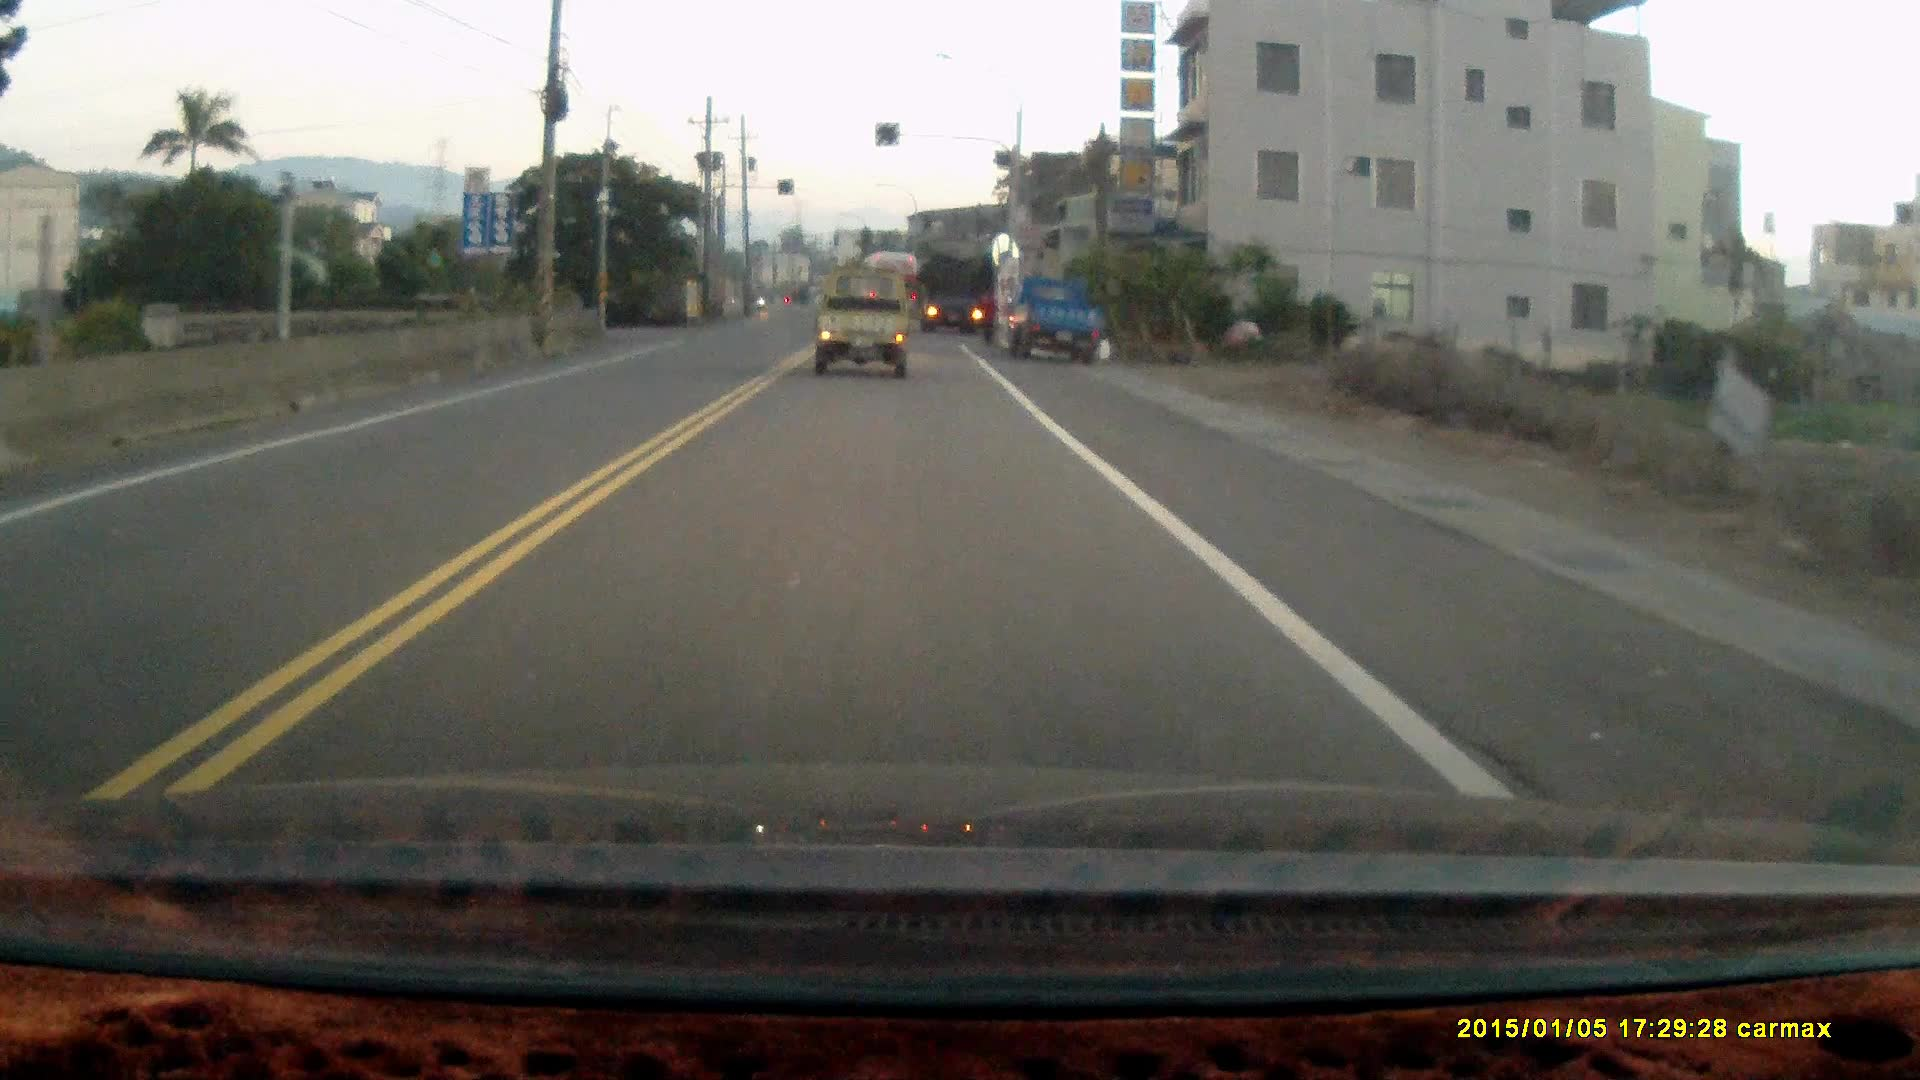vehicle: (810, 264, 913, 378), (1000, 272, 1120, 369), (919, 255, 996, 335)
